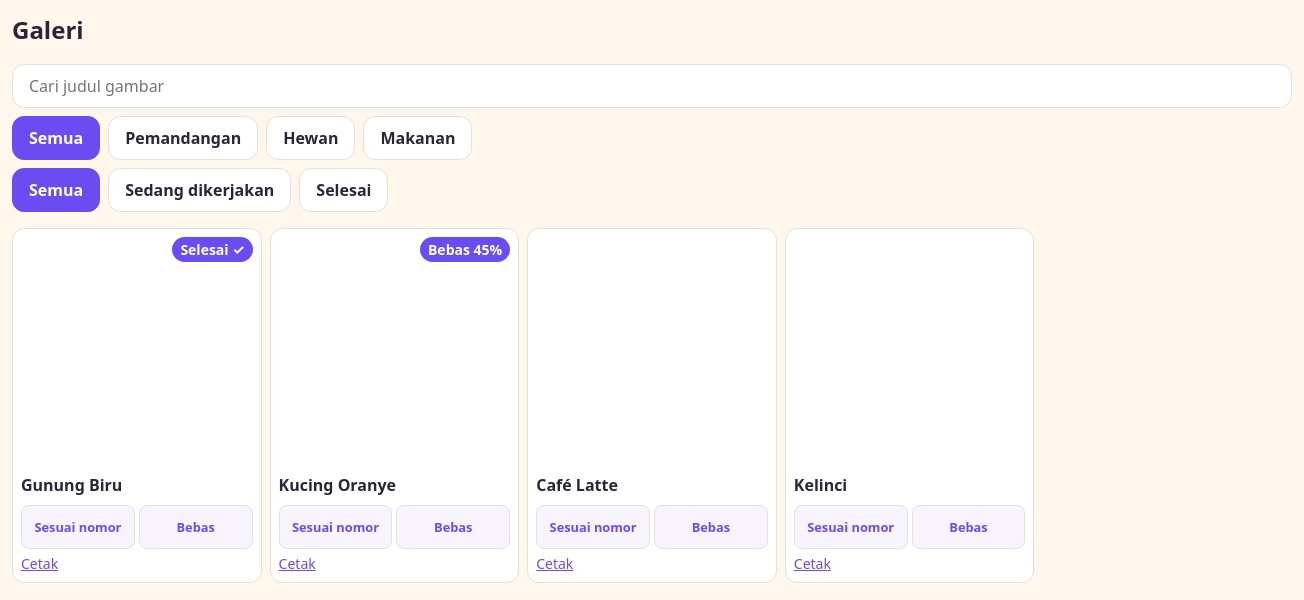
Test: GalleryPage › searches by title and shows the empty state
Expected: the text "Kelinci" is shown, [794,474,847,496]
Type "cafe" into the search field at (652, 86), box [12,64,1292,108]
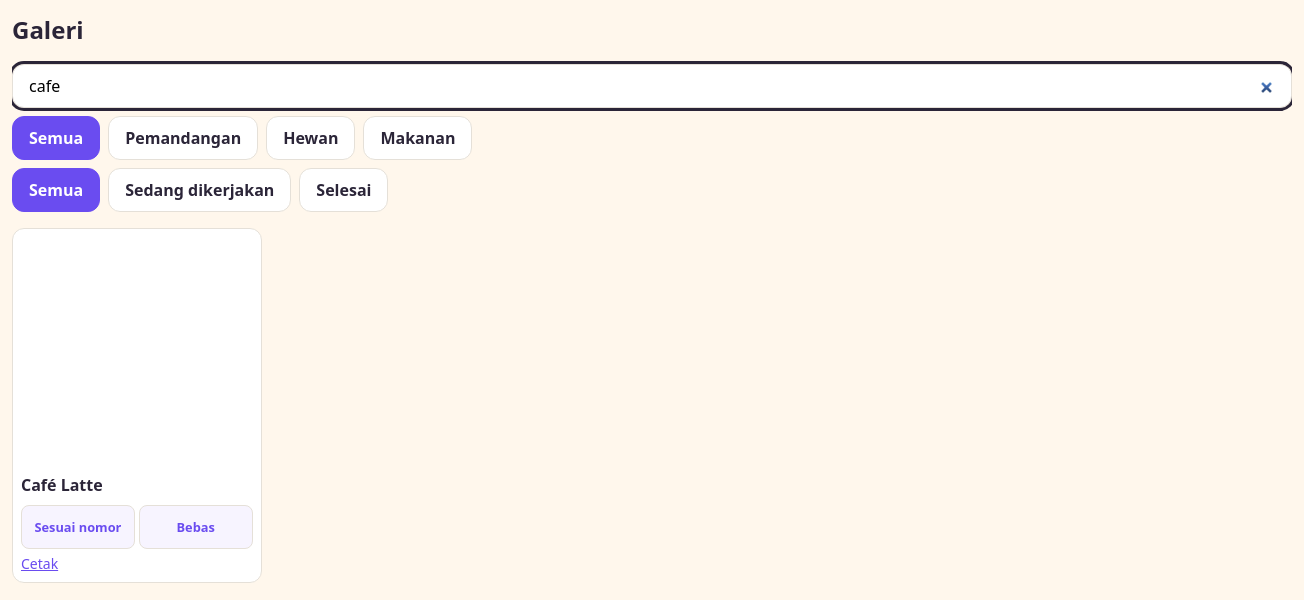
Result: the number of list items is 1 at [12,228,262,583]
Replace the text in the search field with "zzz" at (652, 86), box [12,64,1292,108]
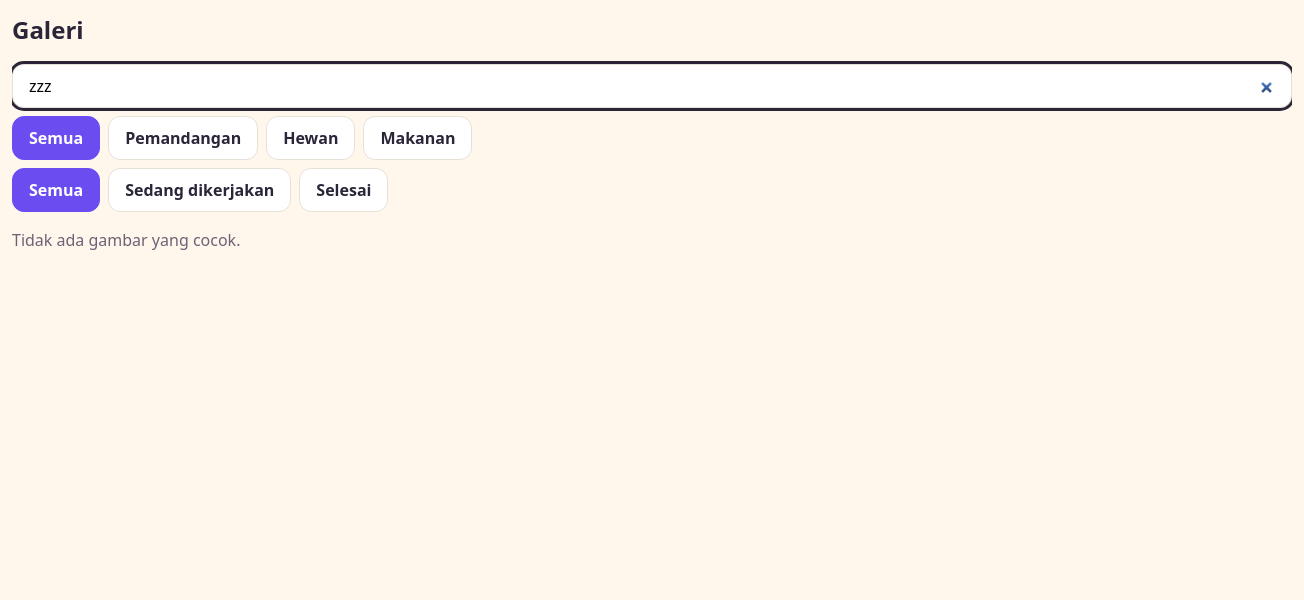
Result: the text "Tidak ada gambar yang cocok." is shown at [12,229,240,251]
